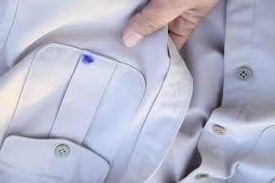ink: (82, 54, 94, 66)
